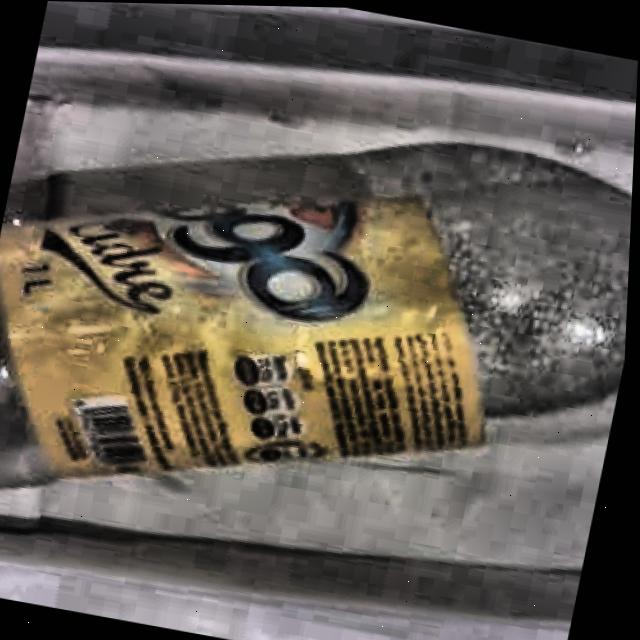plastic: (0, 50, 638, 612)
